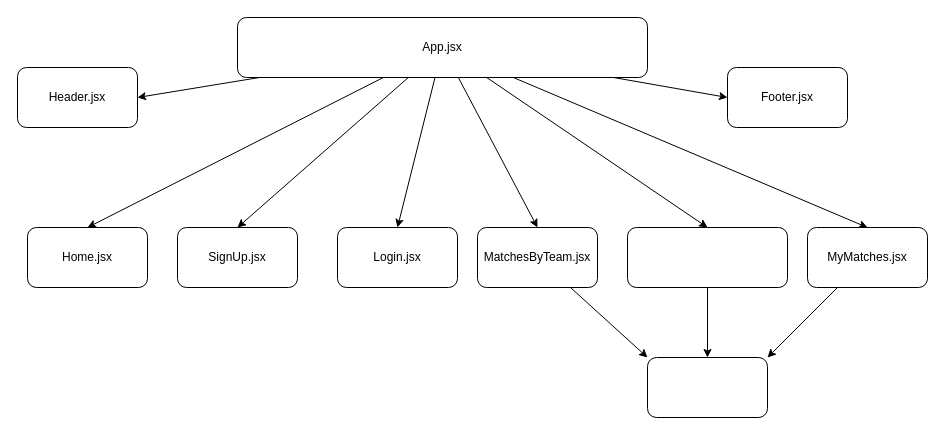
Image size: 945x435. Some labels were removed from this diagram. Here are the shapes that lost their labels. From the top down, the centre of each, then its label:
the point at 707,257: MatchesByCompetition.jsx
the point at 707,387: MatchCard.jsx
